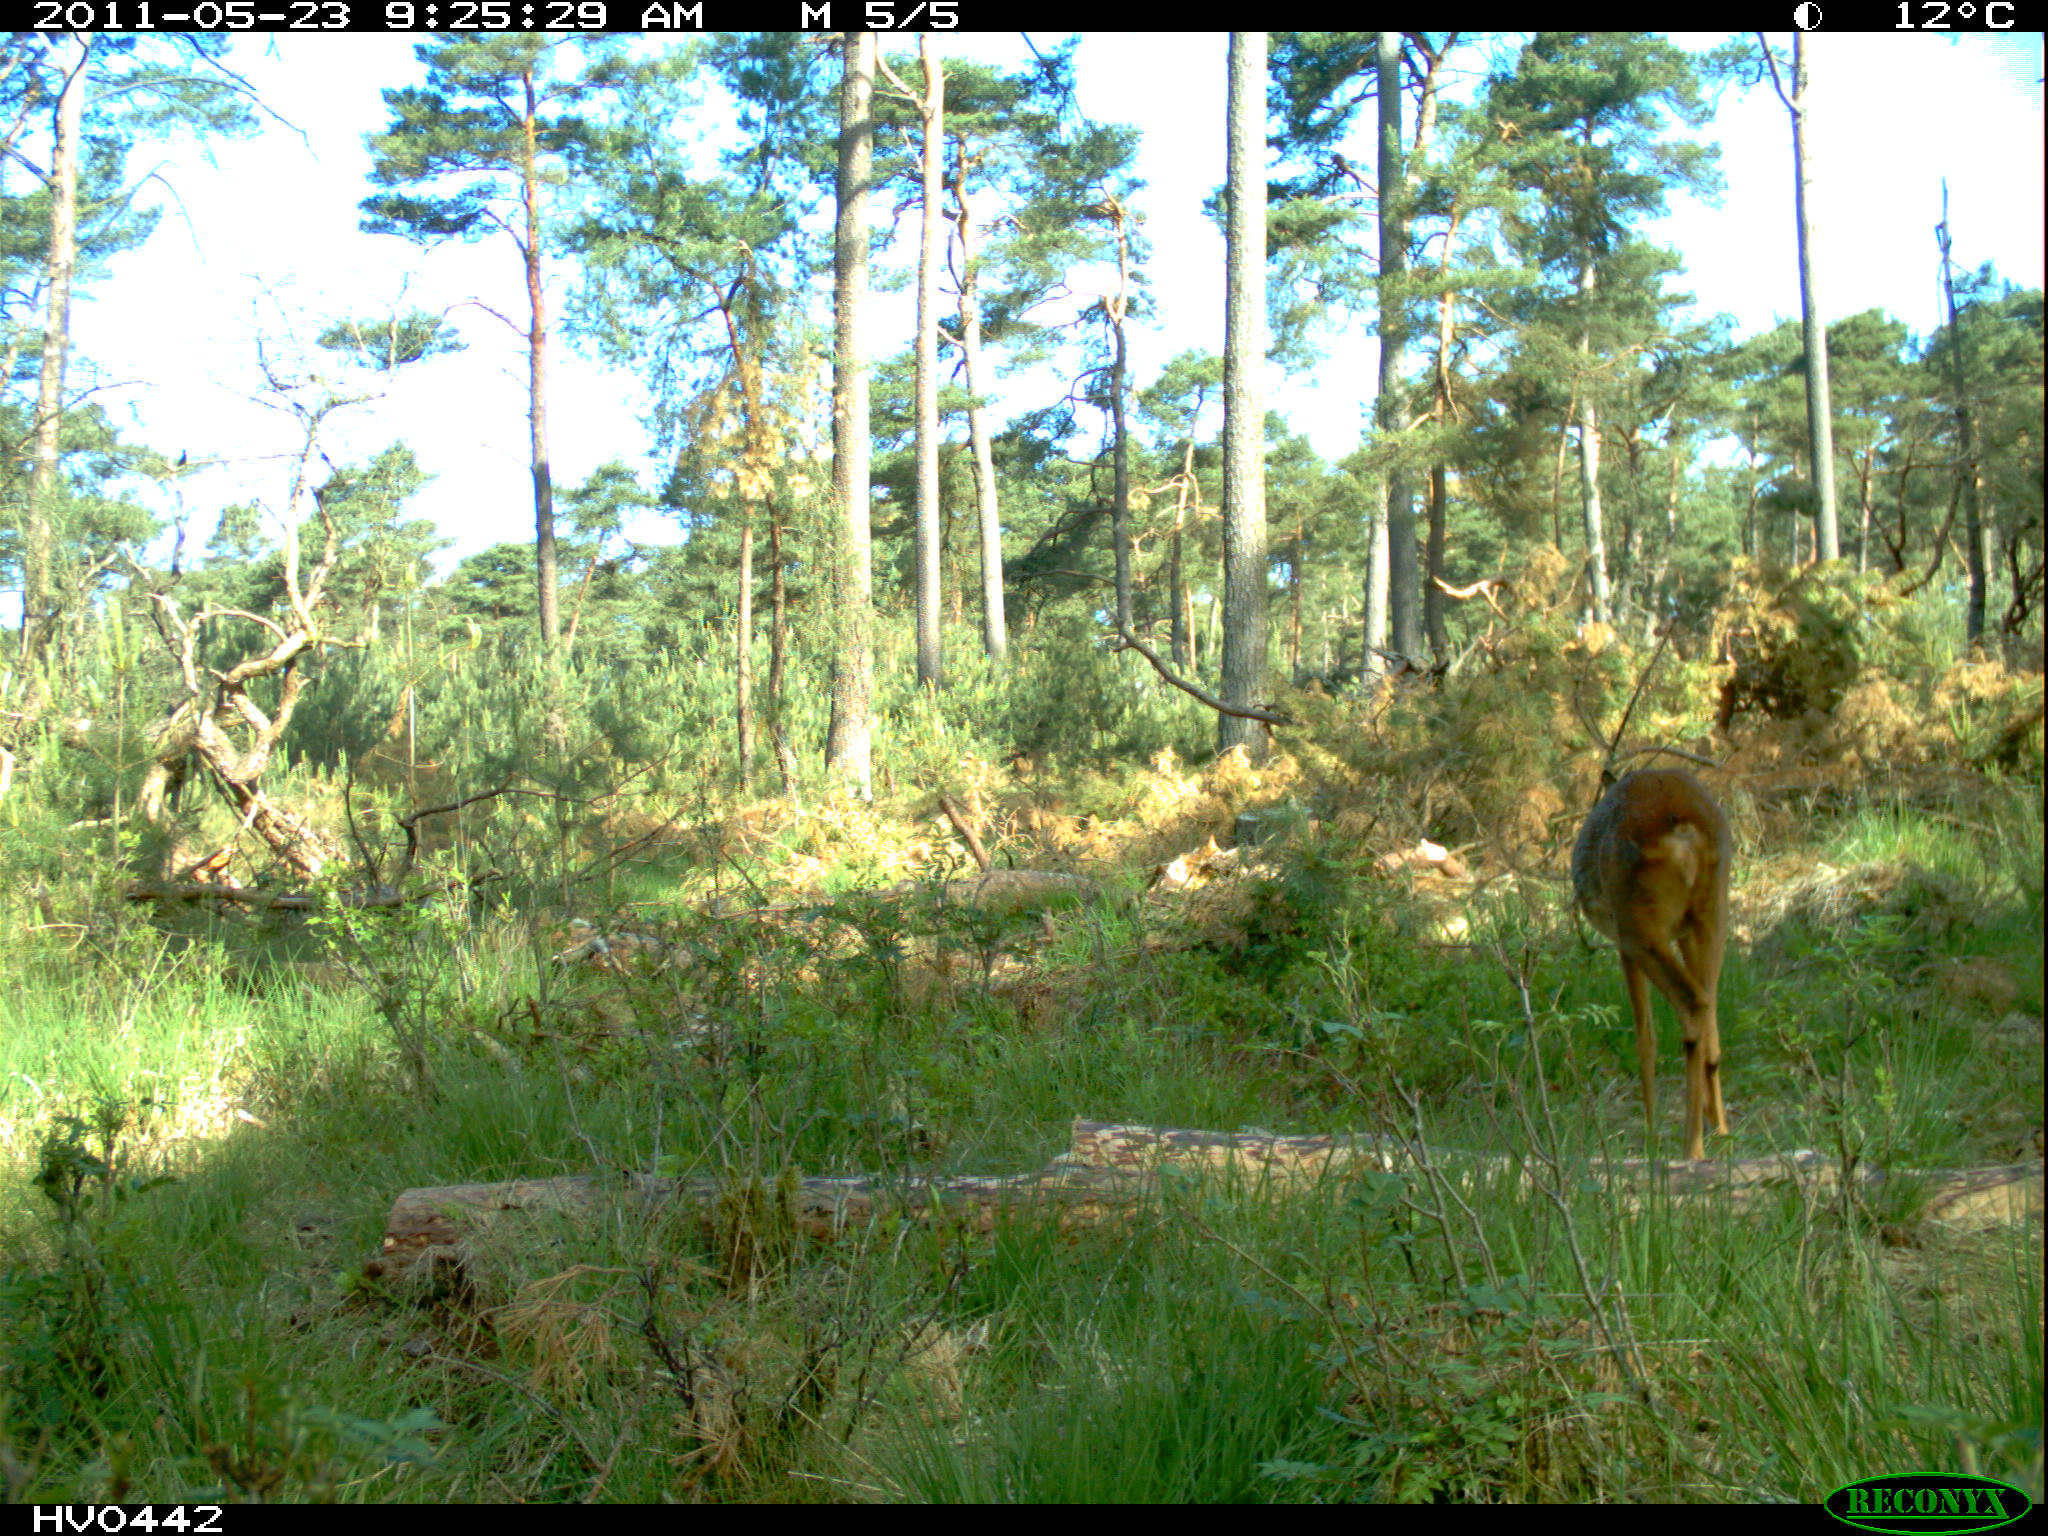Deer: (1564, 763, 1750, 1171)
